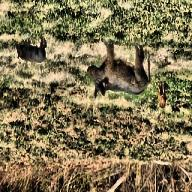boar: (86, 43, 151, 99), (16, 37, 47, 63)
